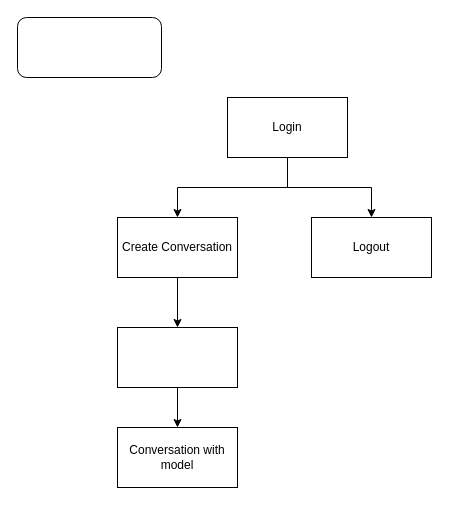
This 449x505 diagram has some shape labels left out. Each missing label, with the centre of its shape:
"Name Conversation" goes at (x=177, y=357).
"Schéma Fonctionnel SoweeChat" goes at (x=89, y=47).
